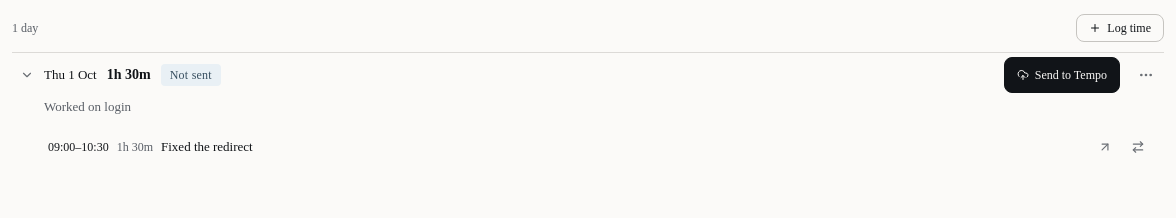
Test: preview › asks one line: Send <hours> to Tempo for <day>?, with no card furniture
The image size is (1176, 218).
Step 1. Click the button "Send to Tempo" → x=1062, y=75, box [1004,57,1120,93]
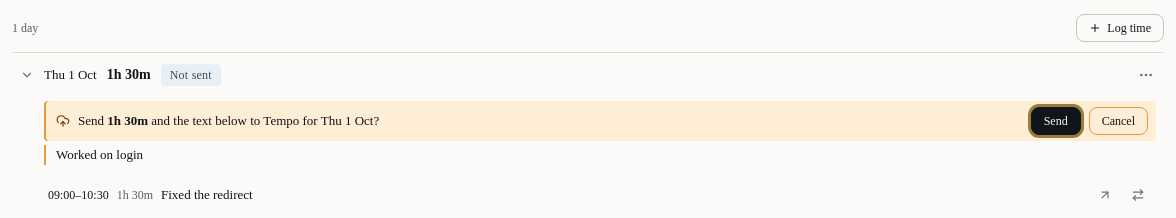
Expected: the element named "Confirm sending Thu 1 Oct to Tempo" is shown, [44,101,1156,141]
Expected: the element with class "task-day-confirm-q" reads "Send 1h 30m and the text below to Tempo for Thu 1 Oct?", [56,113,379,128]
Expected: the button "Cancel" is shown, [1089,107,1148,135]
